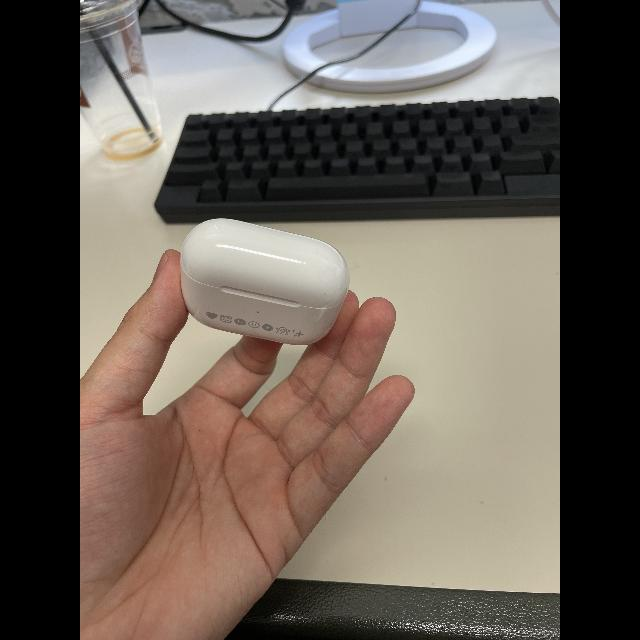airpod3: (164, 205, 360, 358)
